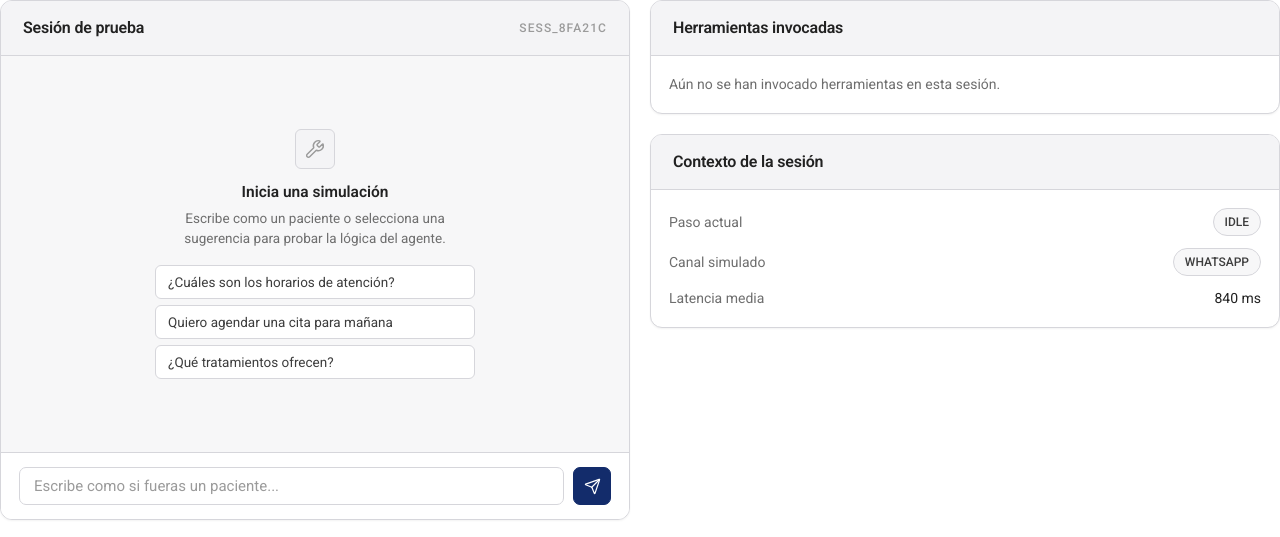
Test case: SimulatorChat Component Organism — Chat UI & Experience › shows tools_used as always-visible badges under the agent message
Type "Agendar cita" into the field with placeholder "Escribe como si fueras un paciente..." at (292, 486), box [19,467,564,505]
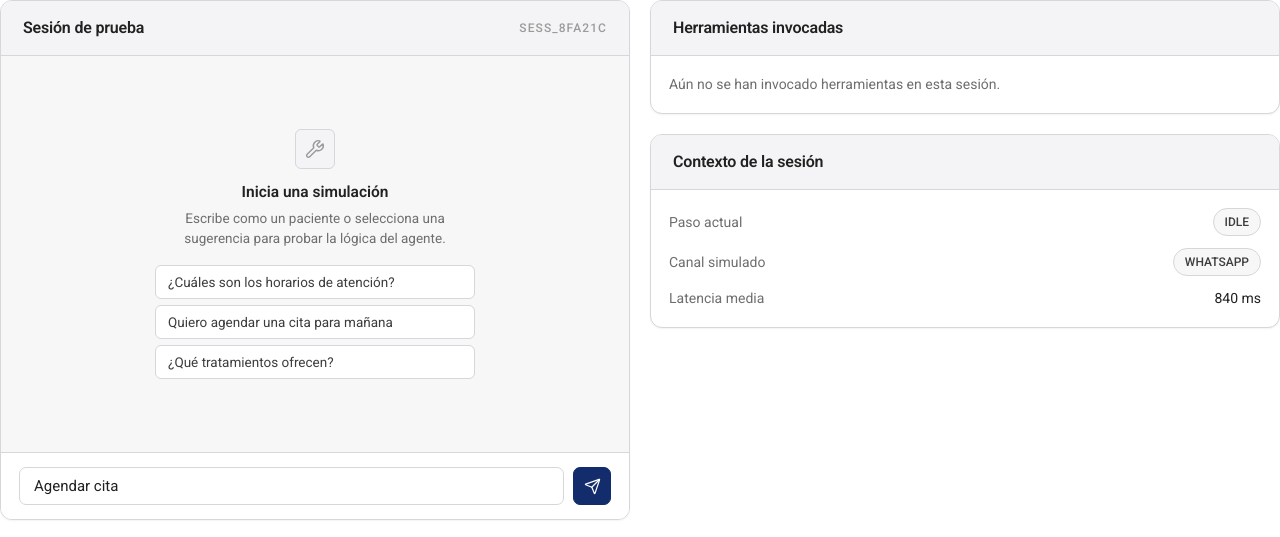
Click the button with test id "chat-send-btn" at (592, 486), box [573,467,611,505]
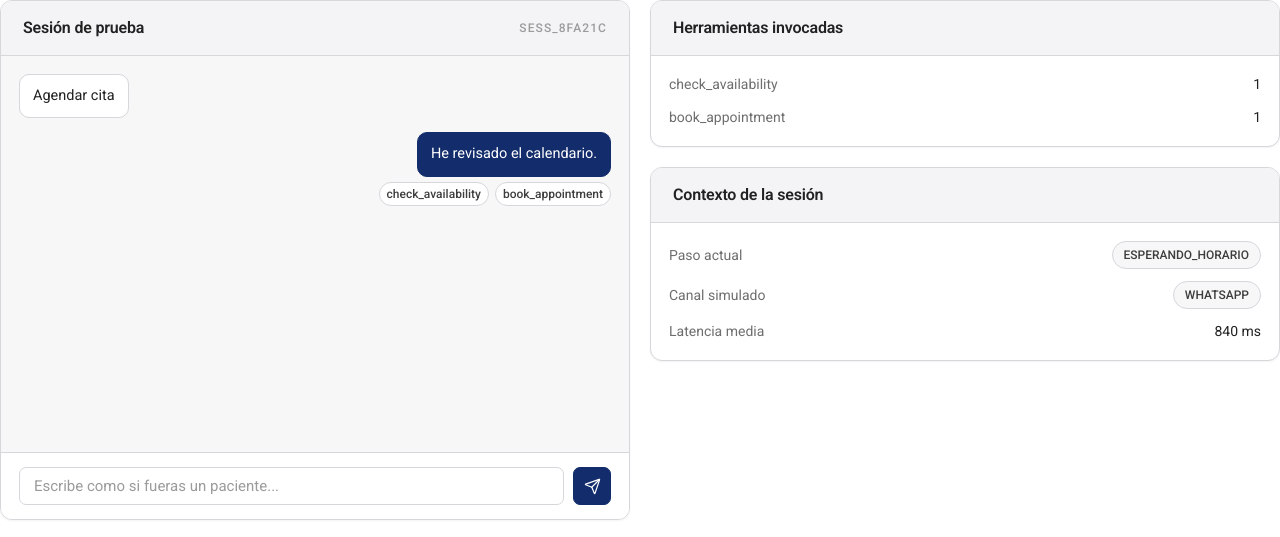
Expected: the element with test id "tools-badges" is shown, [379,182,611,206]
Expected: the text "check_availability" below "He revisado el calendario." is shown, [387,187,481,201]
Expected: the text "book_appointment" below "He revisado el calendario." is shown, [503,187,603,201]
